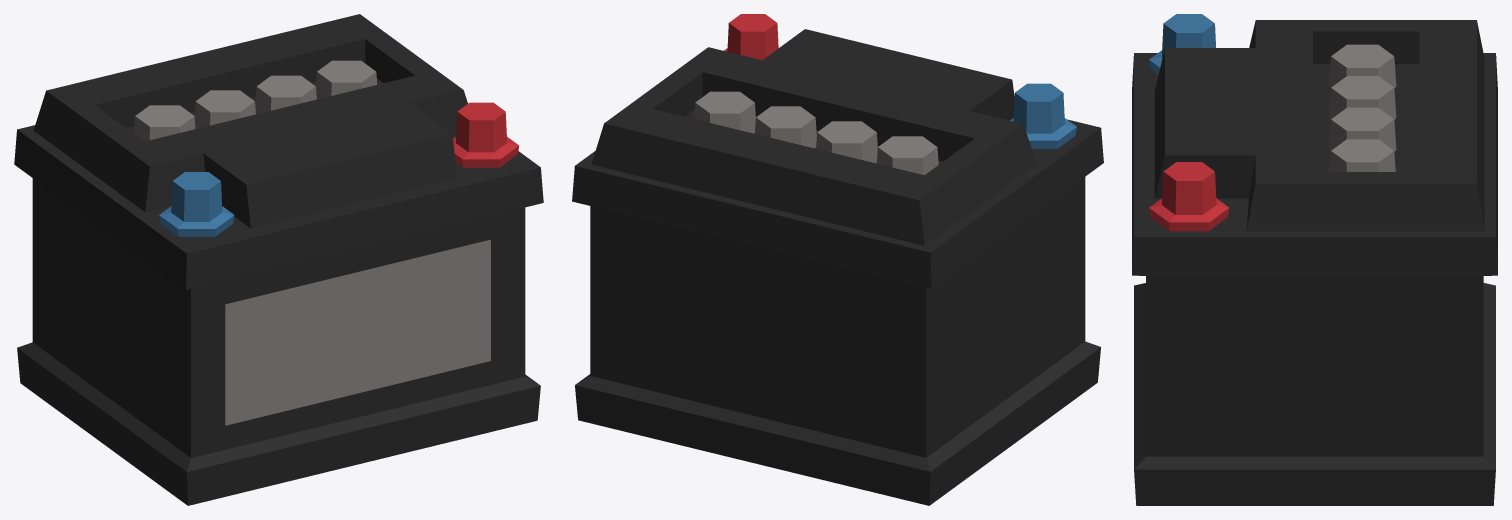
File: survival_battery-car.fbx
3 views of the same model, side by side, from view 1: azimuth 30°, elevation 25°; view 2: azimuth 150°, elevation 25°; view 3: azimuth 270°, elevation 25° (orthographic). The views are drawn at different scales.
Visible parts, largest first — view 1: survival_battery_car; view 2: survival_battery_car; view 3: survival_battery_car.
Part boxes in pixels (bbox=[...]): survival_battery_car: bbox=[14, 14, 543, 505]; survival_battery_car: bbox=[572, 14, 1103, 505]; survival_battery_car: bbox=[1132, 14, 1497, 505].
Size of the model in its own units: 200 by 159 by 166.
